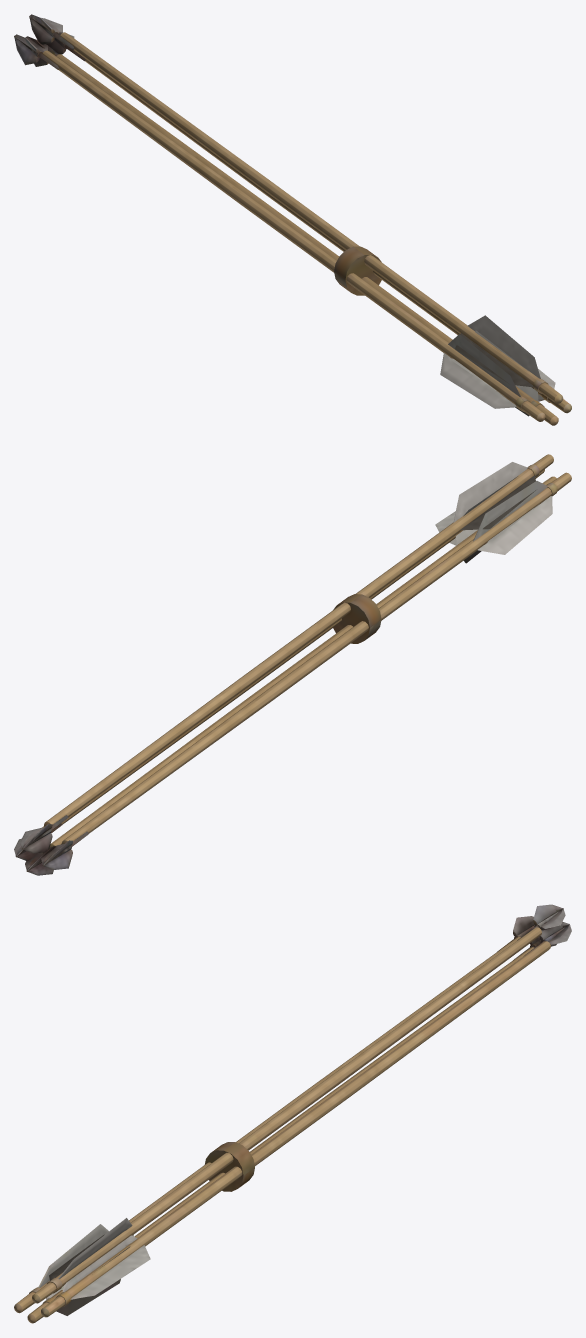
The model's file is arrows_trilobate.glb.
3 views of the same model, one above another, from view 1: azimuth 30°, elevation 25°; view 2: azimuth 150°, elevation 25°; view 3: azimuth 330°, elevation 25° (orthographic).
Parts seen in each view (by area): view 1: arrows_trilobate; view 2: arrows_trilobate; view 3: arrows_trilobate.
Boxes of the visible parts, x1,y1,x2,y2 form: arrows_trilobate: (14,14,571,425); arrows_trilobate: (14,454,571,875); arrows_trilobate: (14,904,571,1323).
Bounding box in the file's own units: 0.0624 × 0.0575 × 0.826.
1 material, 1 textured.
